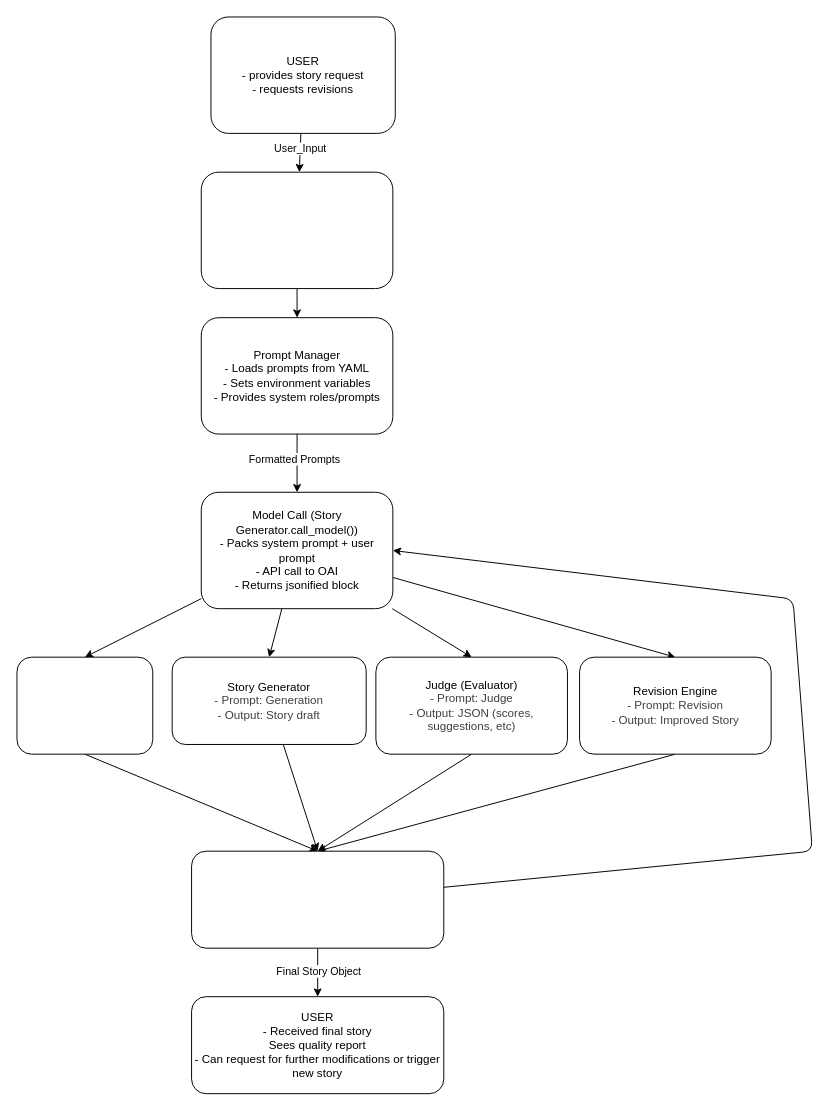
Some shapes in this 837 by 1111 pixel diagram are drawn without their labels. The centre of each missing label's shape, as x and y in pixels:
Categorizer - Prompt: Categorizer - Output: Category: [84,705]
Iterative Loop (N max revisions): [317,899]
Story Generator: [296,230]
